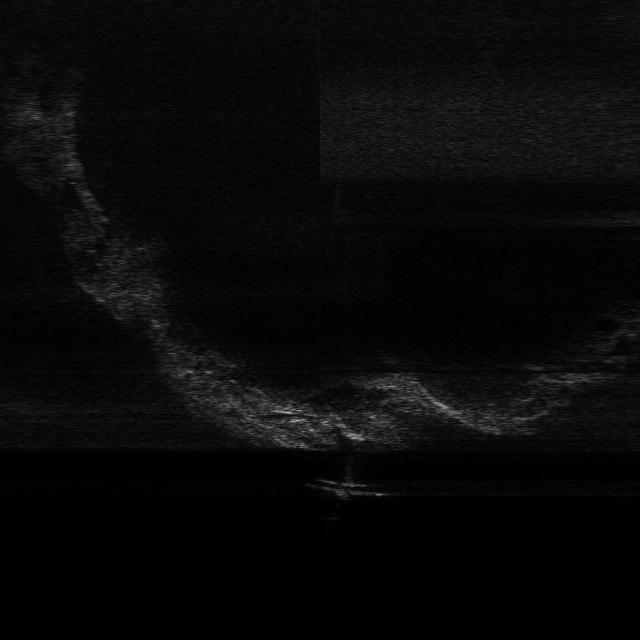plane: (304, 475, 394, 503)
